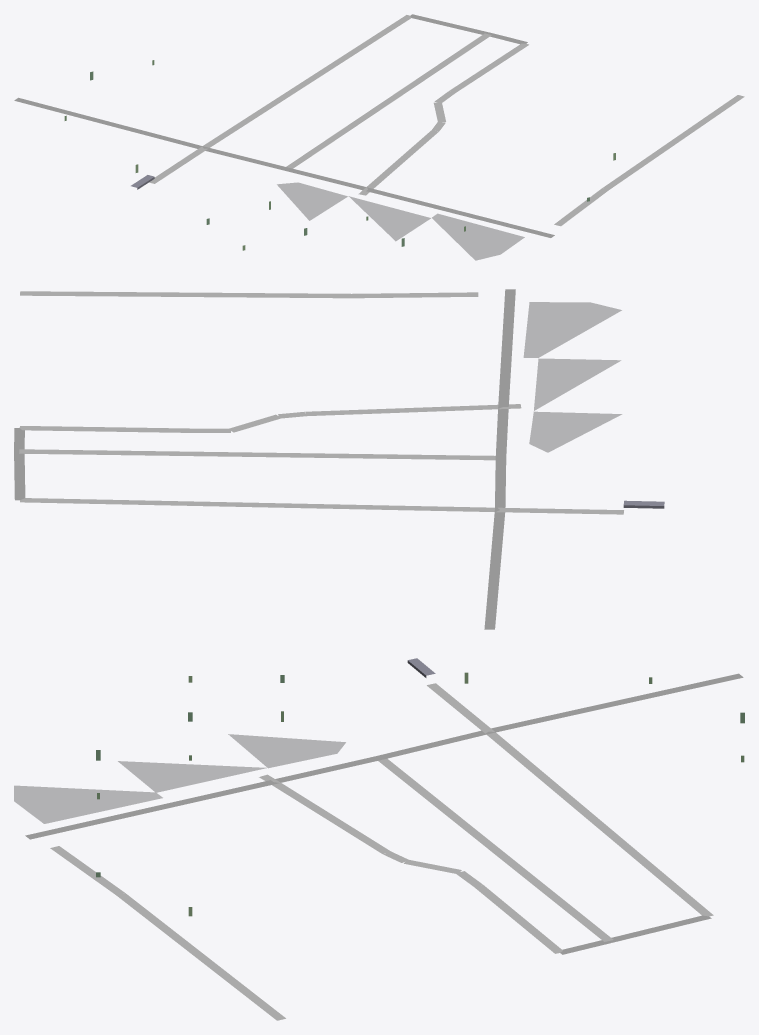
3 renders of one model, top to bottom at view 1: azimuth 30°, elevation 25°; view 2: azimuth 150°, elevation 25°; view 3: azimuth 270°, elevation 25°, orthographic. The views are drawn at different scales.
Size of the model in its own units: 544 by 9.4 by 476.
